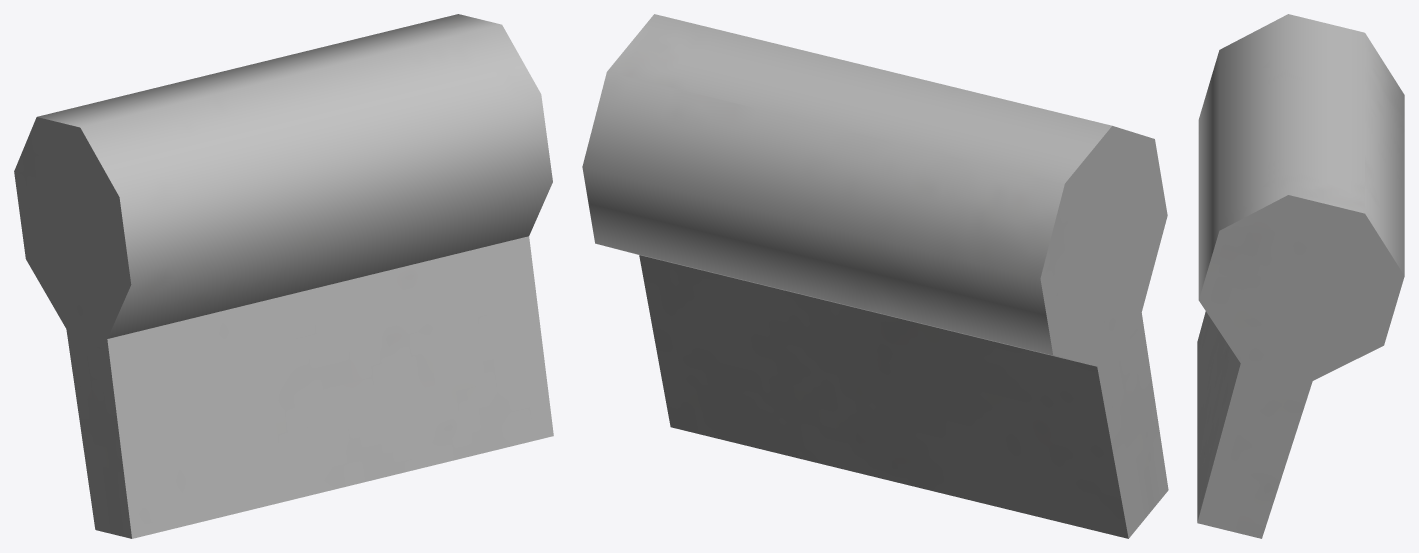
Rendered from Fuzebox_02_button.FBX.
3 renders of one model, left to right at view 1: azimuth 30°, elevation 25°; view 2: azimuth 150°, elevation 25°; view 3: azimuth 270°, elevation 25°, orthographic. The views are drawn at different scales.
Visible parts, largest first — view 1: Fuzebox_02_button; view 2: Fuzebox_02_button; view 3: Fuzebox_02_button.
Boxes of the visible parts, x1,y1,x2,y2 form: Fuzebox_02_button: [14, 14, 553, 538]; Fuzebox_02_button: [582, 14, 1168, 538]; Fuzebox_02_button: [1197, 14, 1404, 538].
Size of the model in its own units: 1.41 by 0.6816 by 1.25.
